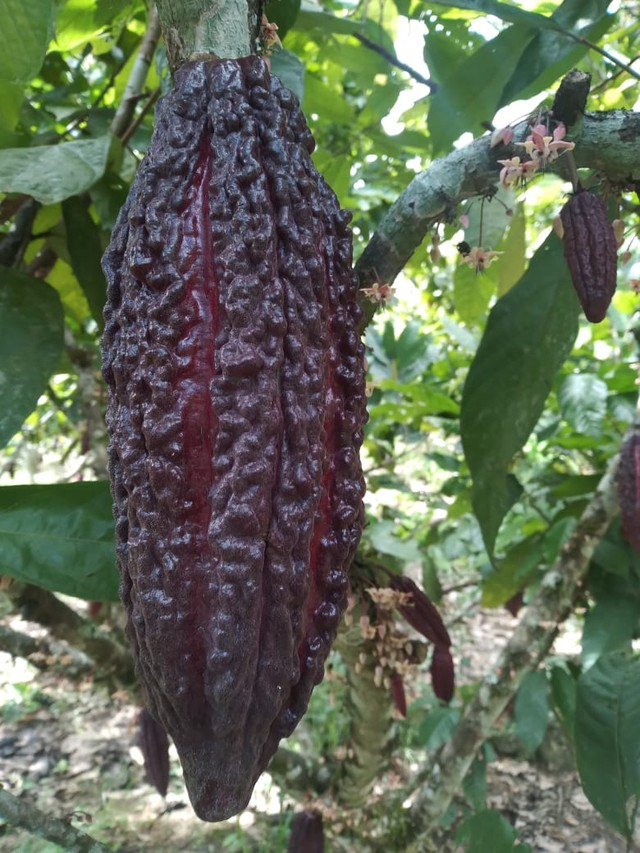Health: (61, 30, 388, 843)
